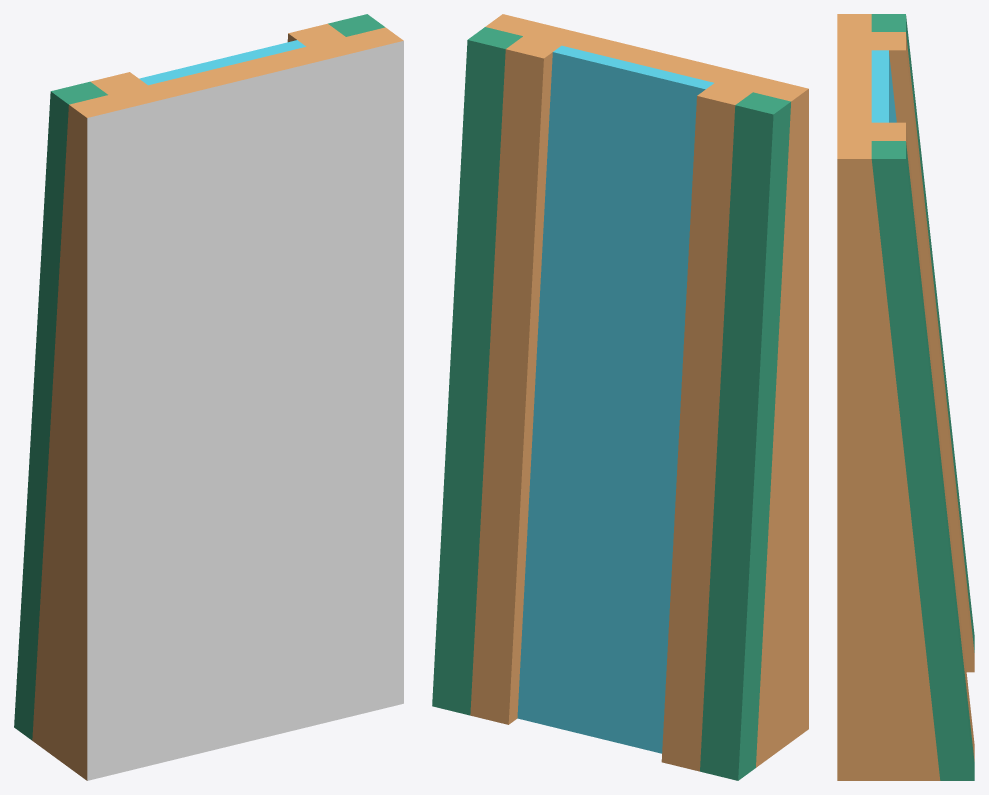
File: tile_riverSlopeLarge.obj
The picture shows the model from 3 angles, left to right: view 1: azimuth 30°, elevation 25°; view 2: azimuth 150°, elevation 25°; view 3: azimuth 270°, elevation 25°; orthographic projection. The views are drawn at different scales.
Parts seen in each view (by area): view 1: tile_riverSlopeLarge.001; view 2: tile_riverSlopeLarge.001; view 3: tile_riverSlopeLarge.001.
Part boxes in pixels (bbox=[...]): tile_riverSlopeLarge.001: bbox=[14, 14, 403, 780]; tile_riverSlopeLarge.001: bbox=[432, 14, 808, 780]; tile_riverSlopeLarge.001: bbox=[837, 14, 974, 780].
Bounding box in the file's own units: 1 × 2 × 0.4.
